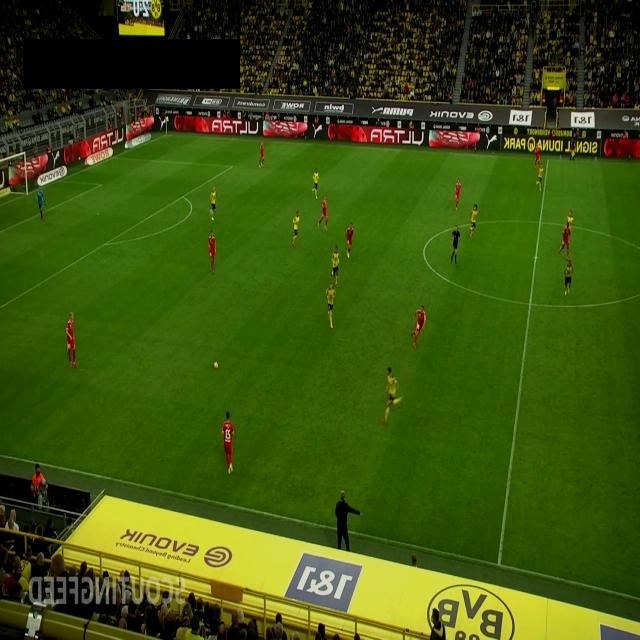ball: (214, 361, 218, 369)
goalkeeper: (36, 186, 46, 222)
player: (381, 366, 401, 424), (221, 410, 235, 474), (411, 304, 426, 349), (66, 312, 78, 368), (429, 607, 446, 639), (558, 224, 572, 260), (326, 282, 335, 330), (330, 245, 340, 287), (564, 258, 574, 296), (317, 196, 328, 230), (208, 230, 216, 274), (469, 204, 478, 238), (292, 210, 300, 247), (346, 222, 354, 258), (312, 167, 320, 200), (536, 162, 544, 191), (210, 186, 216, 220), (455, 179, 461, 211), (566, 209, 574, 231), (534, 141, 540, 169), (259, 140, 265, 168)
referee: (451, 223, 460, 265), (570, 131, 576, 161)
